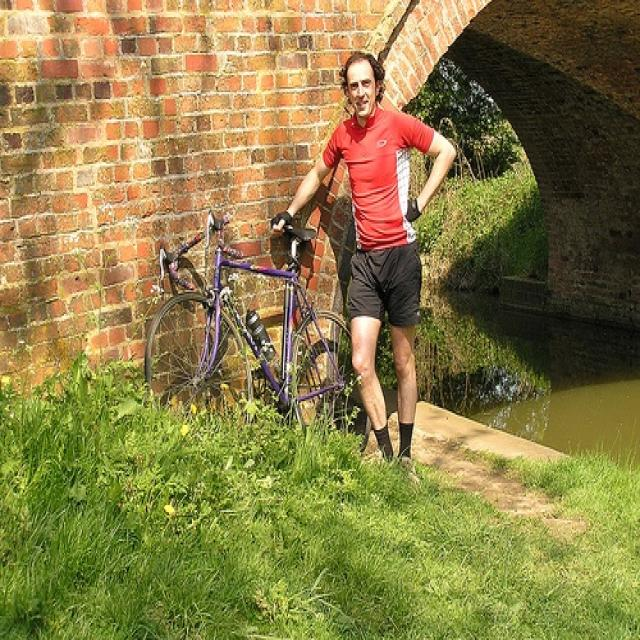bicycle: (141, 216, 378, 453)
bottle: (246, 308, 280, 366)
person: (273, 50, 456, 484)
